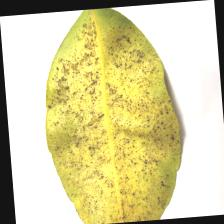canker: (54, 62, 165, 182)
